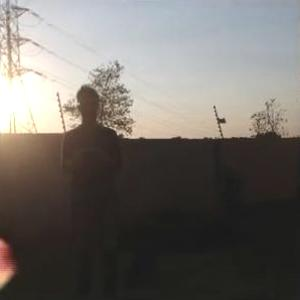follow: (60, 78, 125, 292)
